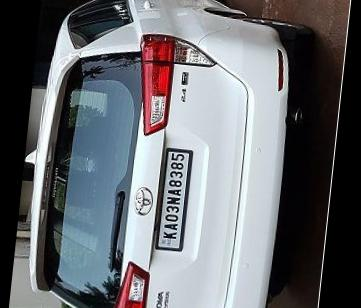plate: (141, 132, 211, 256)
